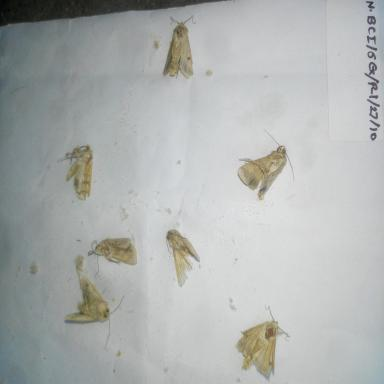abw: (232, 298, 294, 382), (235, 124, 297, 204), (63, 272, 127, 348), (155, 10, 204, 87), (156, 224, 206, 293), (52, 136, 99, 204), (84, 229, 140, 277)
